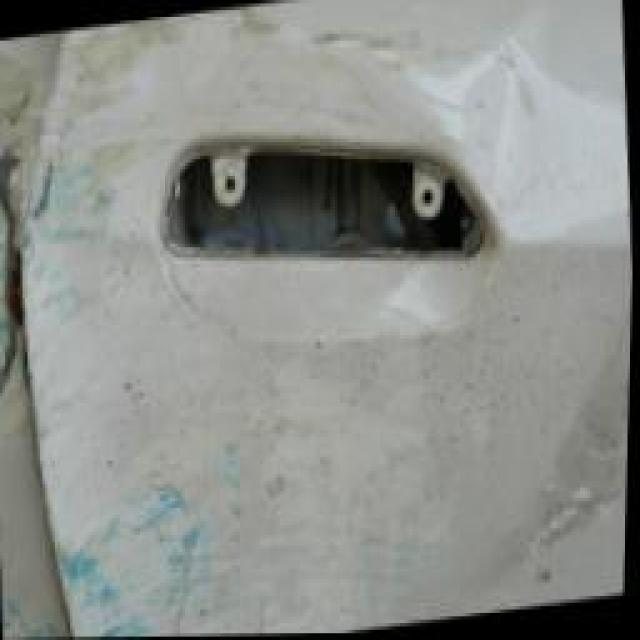Door: (38, 0, 639, 639)
